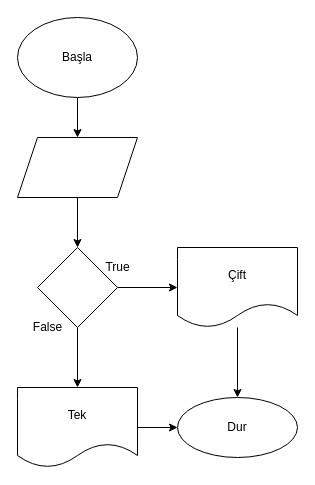
Image size: 315x485. Some labels were removed from this diagram. Each missing label, with the box of its shape:
Sayı: (16, 136, 138, 198)
sayı%2==0: (36, 246, 118, 328)
